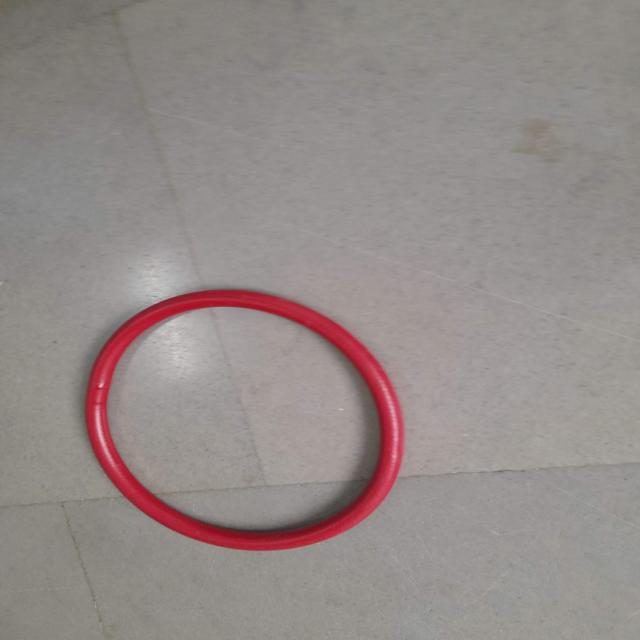daire: (87, 286, 407, 554)
